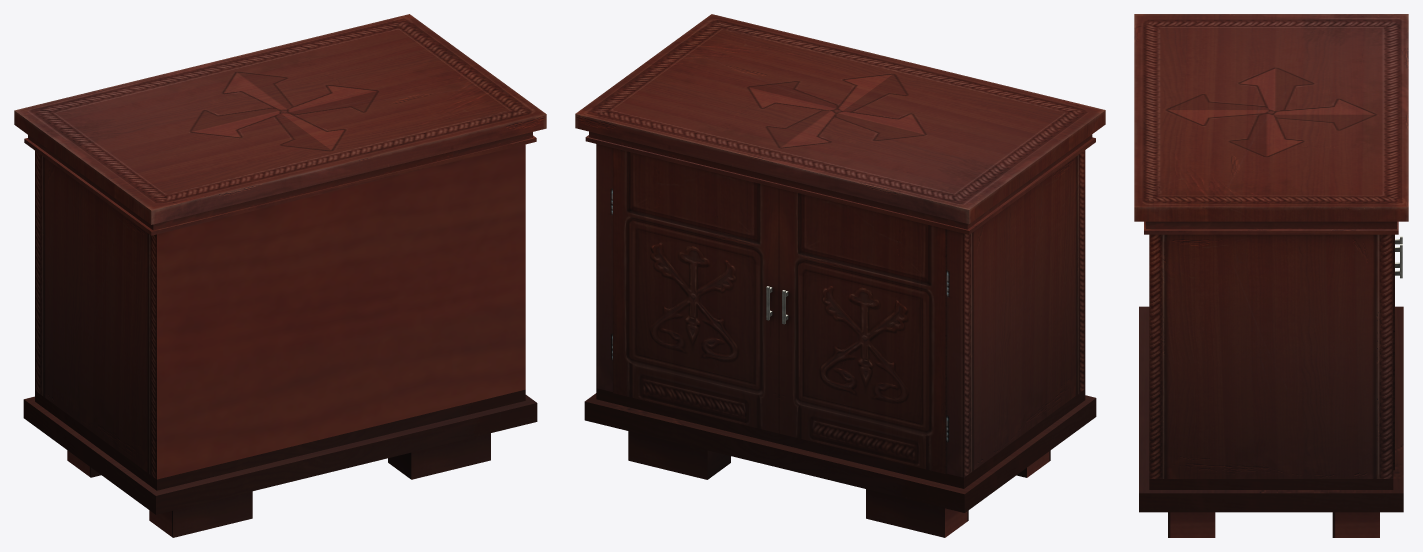
Rendered from table.obj.
The picture shows the model from 3 angles, left to right: view 1: azimuth 30°, elevation 25°; view 2: azimuth 150°, elevation 25°; view 3: azimuth 270°, elevation 25°; orthographic projection.
Visible parts, largest first — view 1: table polySurface45, table polySurface46, polySurface43 table, table polySurface44, table polySurface47, table polySurface48, table polySurface55, table polySurface54; view 2: table polySurface46, table polySurface57, table polySurface58, table polySurface45, polySurface43 table, table polySurface44, table polySurface47, table polySurface48, table polySurface53, table polySurface56; view 3: table polySurface45, table polySurface46, polySurface43 table, table polySurface44, table polySurface47, table polySurface48, table polySurface53, table polySurface54, table polySurface58.
Part boxes in pixels (x1,y1,x2,y2): table polySurface45: (35, 144, 525, 479); table polySurface46: (14, 14, 546, 224); polySurface43 table: (23, 395, 537, 514); table polySurface44: (35, 389, 525, 490); table polySurface47: (28, 132, 532, 230); table polySurface48: (24, 135, 536, 235); table polySurface55: (149, 491, 252, 537); table polySurface54: (388, 433, 490, 479); table polySurface46: (575, 14, 1105, 223); table polySurface57: (779, 188, 946, 473); table polySurface58: (613, 148, 779, 433); table polySurface45: (596, 144, 1085, 477); polySurface43 table: (584, 393, 1096, 512); table polySurface44: (596, 388, 1085, 488); table polySurface47: (589, 131, 1092, 229); table polySurface48: (585, 135, 1095, 234); table polySurface53: (628, 431, 730, 479); table polySurface56: (866, 489, 968, 537); table polySurface45: (1149, 234, 1393, 478); table polySurface46: (1134, 14, 1408, 221); polySurface43 table: (1139, 306, 1403, 512); table polySurface44: (1149, 479, 1393, 489); table polySurface47: (1145, 221, 1396, 229); table polySurface48: (1144, 221, 1398, 234); table polySurface53: (1332, 512, 1379, 537); table polySurface54: (1168, 512, 1215, 537); table polySurface58: (1393, 234, 1402, 470).
Size of the model in its own units: 14.93 by 12.59 by 8.96.
Materials: 1 (1 with a texture image).
